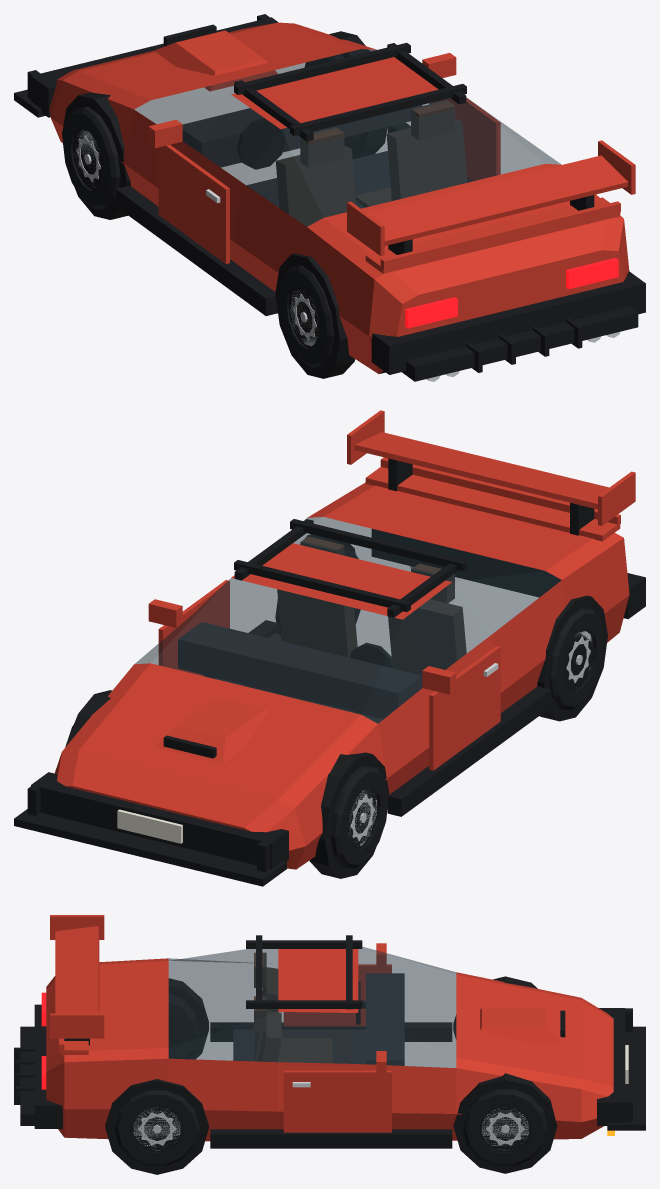
The model's file is sports.glb.
3 renders of one model, top to bottom at view 1: azimuth 30°, elevation 25°; view 2: azimuth 150°, elevation 25°; view 3: azimuth 270°, elevation 25°, orthographic. The views are drawn at different scales.
Visible parts, largest first — view 1: sports, sports_door_fl, sports_wheel_fl, sports_wheel_rl, sports_door_fr; view 2: sports, sports_door_fl, sports_wheel_fl, sports_wheel_rl, sports_door_fr; view 3: sports, sports_door_fr, sports_wheel_fr, sports_wheel_rr, sports_wheel_rl, sports_door_fl.
Boxes of the visible parts, box(x1,y1,x2,y2) form: sports: box(14, 14, 645, 381); sports_door_fl: box(158, 145, 229, 263); sports_wheel_fl: box(62, 107, 120, 209); sports_wheel_rl: box(279, 265, 333, 367); sports_door_fr: box(429, 98, 500, 181); sports: box(14, 410, 645, 886); sports_door_fl: box(429, 646, 500, 770); sports_wheel_fl: box(330, 765, 388, 868); sports_wheel_rl: box(549, 608, 604, 710); sports_door_fr: box(158, 580, 229, 675); sports: box(14, 915, 645, 1174); sports_door_fr: box(283, 1070, 391, 1132); sports_wheel_fr: box(463, 1089, 547, 1165); sports_wheel_rr: box(114, 1090, 199, 1165); sports_wheel_rl: box(168, 993, 199, 1059); sports_door_fl: box(283, 964, 391, 1026).
Size of the model in its own units: 2.18 by 1.34 by 4.9.
